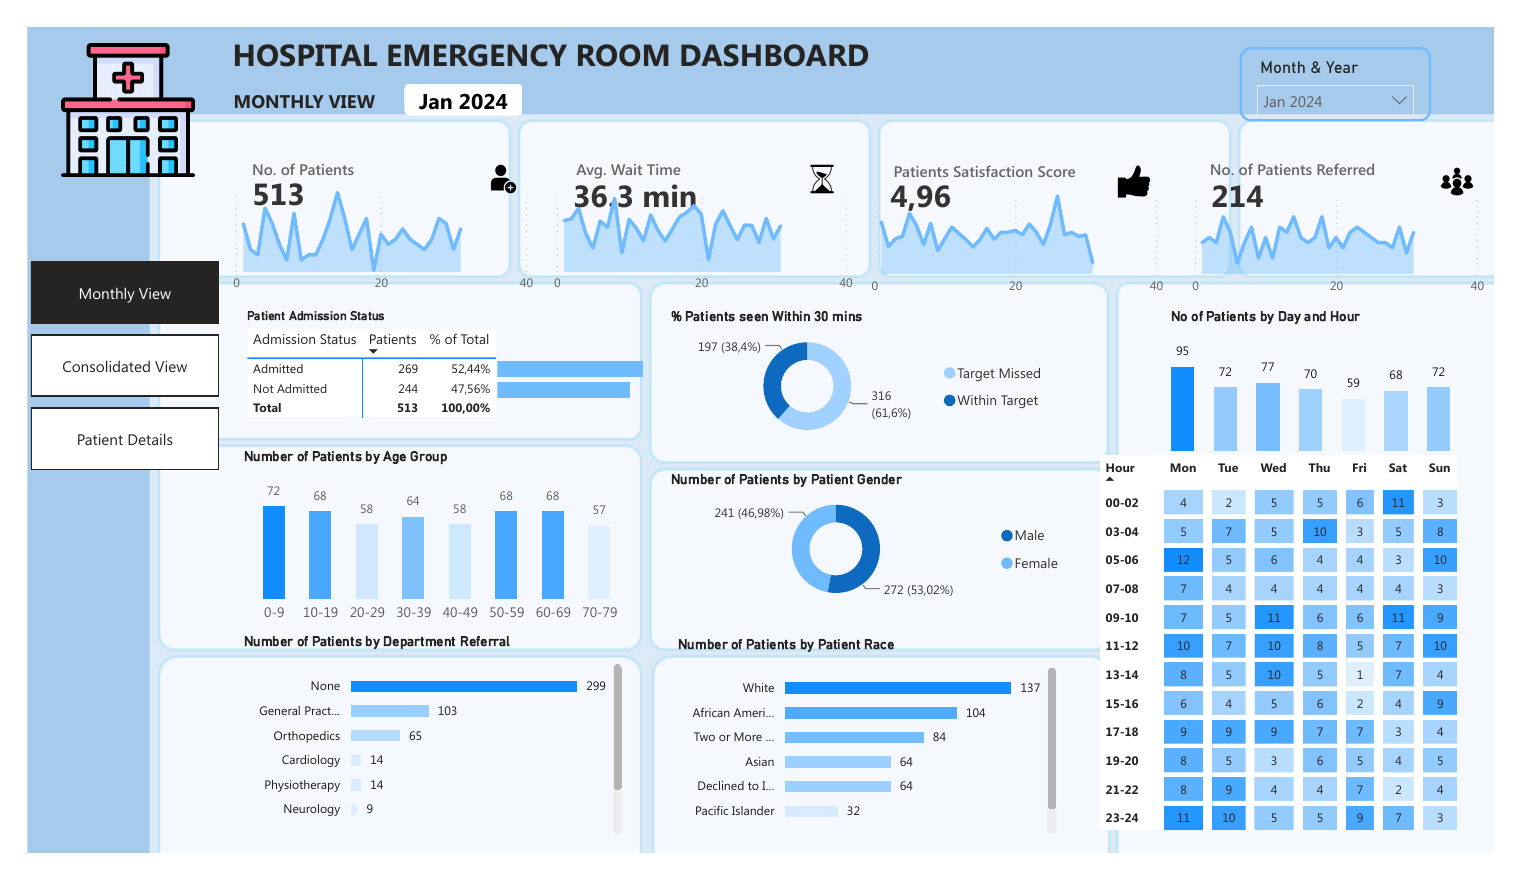

Layout of this report page (visuals, bound fields, positions):
{"tool":"powerbi","page":{"name":"Monthly View","canvas":[1280,720],"ordinal":0},"visuals":[{"type":"areaChart","fields":{"Category":["Date.Date.Variation.Date Hierarchy.Day"],"Y":["_Measure.Number of Patients"]},"box":[167.3,130,282.2,110.9],"z":0},{"type":"cardVisual","fields":{"Data":["_Measure.Number of Patients"]},"box":[167.3,111.9,105.8,91.7],"z":1000},{"type":"textbox","box":[191.5,109.9,113.9,35.3],"z":2000},{"type":"image","box":[395.1,119.9,41.3,25.2],"z":3000},{"type":"pivotTable","title":"Patient Admission Status","fields":{"Rows":["Hospital Data.Admission Status"],"Values":["_Measure.Number of Patients1","_Measure.Number of Patients"]},"box":[187.5,245.9,248.9,104.8],"z":4000},{"type":"textbox","box":[174.4,0,581.5,49.4],"z":5000},{"type":"textbox","box":[175.4,49.4,147.1,36.3],"z":6000},{"type":"slicer","fields":{"Values":["Date.Month & Year"]},"box":[1058.3,17.1,166.3,64.5],"z":7000},{"type":"cardVisual","fields":{"Data":["Min(Date.Month & Year)"]},"box":[312.4,32.3,137.1,62.5],"z":8000},{"type":"areaChart","fields":{"Category":["Date.Date.Variation.Date Hierarchy.Day"],"Y":["_Measure.Patient Satisfaction Score"]},"box":[723.7,133,276.2,110.9],"z":9000},{"type":"cardVisual","fields":{"Data":["_Measure.Avg. Wait Time w/min"]},"box":[447.5,105.8,190.5,78.6],"z":10000},{"type":"image","box":[675.3,119.9,36.3,25.2],"z":11000},{"type":"areaChart","fields":{"Category":["Date.Date.Variation.Date Hierarchy.Day"],"Y":["_Measure.Average Wait Time"]},"box":[447.5,130,281.2,110.9],"z":12000},{"type":"cardVisual","fields":{"Data":["_Measure.Patient Satisfaction Score"]},"box":[723.7,109.9,132,70.6],"z":13000},{"type":"image","box":[944.4,119.9,41.3,29.2],"z":14000},{"type":"textbox","box":[473.7,109.9,113.9,35.3],"z":15000},{"type":"textbox","box":[750.9,111.9,180.4,35.3],"z":16000},{"type":"areaChart","fields":{"Category":["Date.Date.Variation.Date Hierarchy.Day"],"Y":["_Measure.Patient Referred"]},"box":[1003.8,133,276.2,110.9],"z":17000},{"type":"cardVisual","fields":{"Data":["_Measure.Patient Referred"]},"box":[1003.8,111.9,132,65.5],"z":18000},{"type":"textbox","box":[1027,109.9,172.3,35.3],"z":19000},{"type":"image","box":[1230.6,119.9,33.3,29.2],"z":20000},{"type":"barChart","fields":{"Category":["Hospital Data.Admission Status"],"Y":["_Measure.Number of Patients"]},"box":[405.2,269.1,152.2,68.5],"z":21000},{"type":"columnChart","fields":{"Category":["Hospital Data.Age Group"],"Y":["_Measure.Number of Patients"]},"box":[184.4,367.9,346.7,161.3],"z":22000},{"type":"donutChart","fields":{"Category":["Hospital Data.Patient Gender"],"Y":["_Measure.Number of Patients"]},"box":[557.4,388,356.8,120.9],"z":23000},{"type":"barChart","fields":{"Category":["Hospital Data.Department Referral"],"Y":["_Measure.Number of Patients"]},"box":[184.4,529.1,339.7,179.4],"z":24000},{"type":"barChart","fields":{"Y":["_Measure.Number of Patients"],"Category":["Hospital Data.Patient Race"]},"box":[563.4,532.2,339.7,176.4],"z":25000},{"type":"donutChart","title":"% Patients seen Within 30 mins","fields":{"Y":["_Measure.Number of Patients"],"Category":["Hospital Data.Waittime"]},"box":[557.4,245.9,341.7,120.9],"z":26000},{"type":"pivotTable","fields":{"Rows":["Hospital Data.Waittime Interval"],"Columns":["Date.Day"],"Values":["_Measure.Number of Patients"]},"box":[931.3,367.9,325.5,340.7],"z":27000},{"type":"columnChart","title":"No of Patients by Day and Hour","fields":{"Y":["_Measure.Number of Patients"],"Category":["Date.Day of Week"]},"box":[992.8,245.9,255,130],"z":28000},{"type":"image","box":[29.2,14.1,116.9,115.9],"z":28001},{"type":"pageNavigator","box":[3,203.6,164.3,182.4],"z":28002}]}

Visuals, with their boxes in screenshot pixels (x1, y1, x2, y2), scaled from the page's 1280x720 canvas onto the 1522x880 screenshot:
areaChart - Date.Date.Variation.Date Hierarchy.Day x _Measure.Number of Patients: 199 159 534 294
cardVisual - _Measure.Number of Patients: 199 137 325 249
textbox: 228 134 363 177
image: 470 147 519 177
"Patient Admission Status" pivotTable: 223 301 519 429
textbox: 207 0 899 60
textbox: 209 60 383 105
slicer - Date.Month & Year: 1258 21 1456 100
cardVisual - Min(Date.Month & Year): 371 39 534 116
areaChart - Date.Date.Variation.Date Hierarchy.Day x _Measure.Patient Satisfaction Score: 861 163 1189 298
cardVisual - _Measure.Avg. Wait Time w/min: 532 129 759 225
image: 803 147 846 177
areaChart - Date.Date.Variation.Date Hierarchy.Day x _Measure.Average Wait Time: 532 159 866 294
cardVisual - _Measure.Patient Satisfaction Score: 861 134 1017 221
image: 1123 147 1172 182
textbox: 563 134 699 177
textbox: 893 137 1107 180
areaChart - Date.Date.Variation.Date Hierarchy.Day x _Measure.Patient Referred: 1194 163 1521 298
cardVisual - _Measure.Patient Referred: 1194 137 1351 217
textbox: 1221 134 1426 177
image: 1463 147 1503 182
barChart - Hospital Data.Admission Status x _Measure.Number of Patients: 482 329 663 413
columnChart - Hospital Data.Age Group x _Measure.Number of Patients: 219 450 632 647
donutChart - Hospital Data.Patient Gender x _Measure.Number of Patients: 663 474 1087 622
barChart - Hospital Data.Department Referral x _Measure.Number of Patients: 219 647 623 866
barChart - _Measure.Number of Patients x Hospital Data.Patient Race: 670 650 1074 866
"% Patients seen Within 30 mins" donutChart: 663 301 1069 448
pivotTable - Hospital Data.Waittime Interval x Date.Day: 1107 450 1494 866
"No of Patients by Day and Hour" columnChart: 1181 301 1484 459
image: 35 17 174 159
pageNavigator: 4 249 199 472
